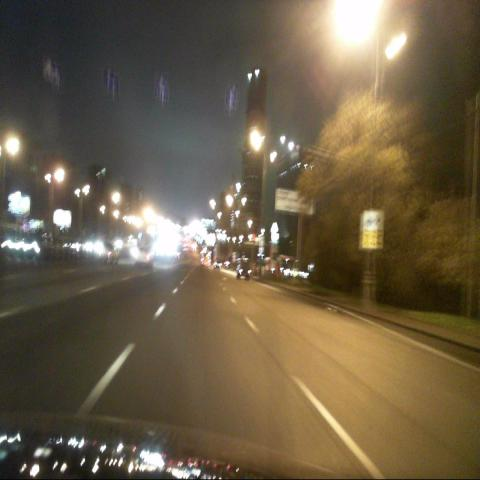5_15_2: (227, 83, 239, 106), (103, 69, 114, 89), (43, 57, 53, 77)
